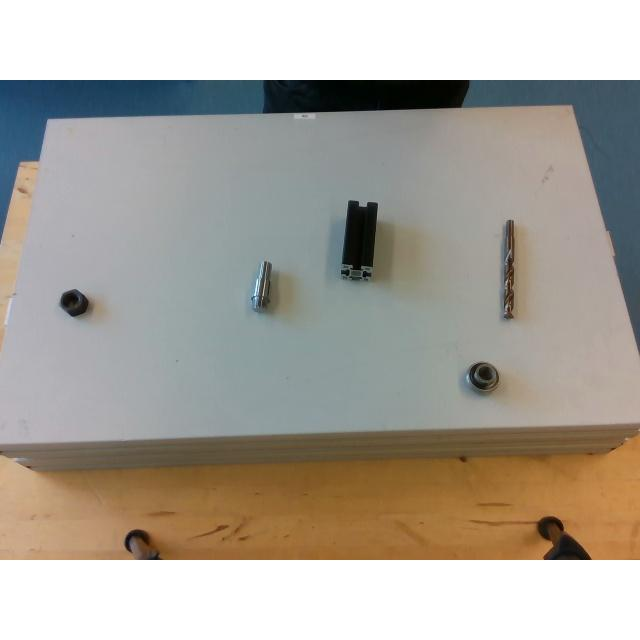Axis2: (251, 260, 271, 308)
Bearing2: (467, 361, 499, 391)
Drill: (500, 218, 516, 318)
M20: (59, 288, 90, 316)
S40_40_B: (340, 200, 376, 278)
